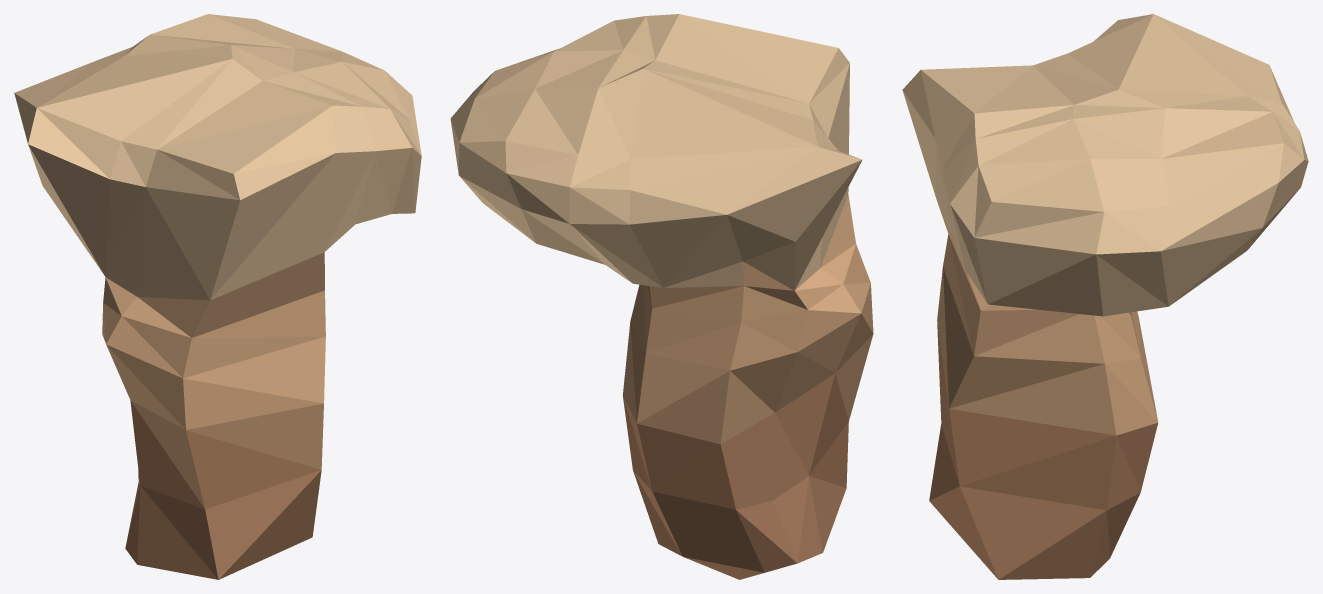
The model's file is canyon-2-5.glb.
3 views of the same model, side by side, from view 1: azimuth 30°, elevation 25°; view 2: azimuth 150°, elevation 25°; view 3: azimuth 270°, elevation 25° (orthographic). The views are drawn at different scales.
Visible parts, largest first — view 1: canyon-2-5; view 2: canyon-2-5; view 3: canyon-2-5.
Part boxes in pixels (left/top/right/bottom): canyon-2-5: left=14, top=14, right=421, bottom=579; canyon-2-5: left=450, top=14, right=873, bottom=579; canyon-2-5: left=902, top=14, right=1308, bottom=579.
Size of the model in its own units: 22.9 by 28 by 20.
